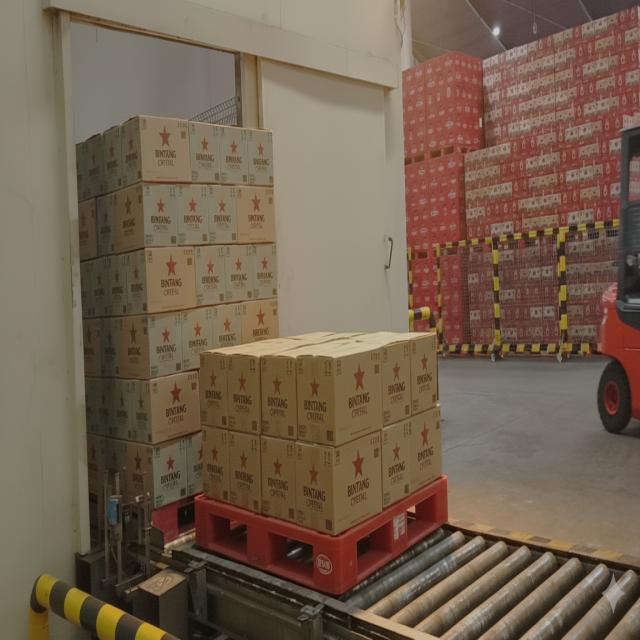pallet: (66, 108, 276, 548), (192, 330, 453, 601)
